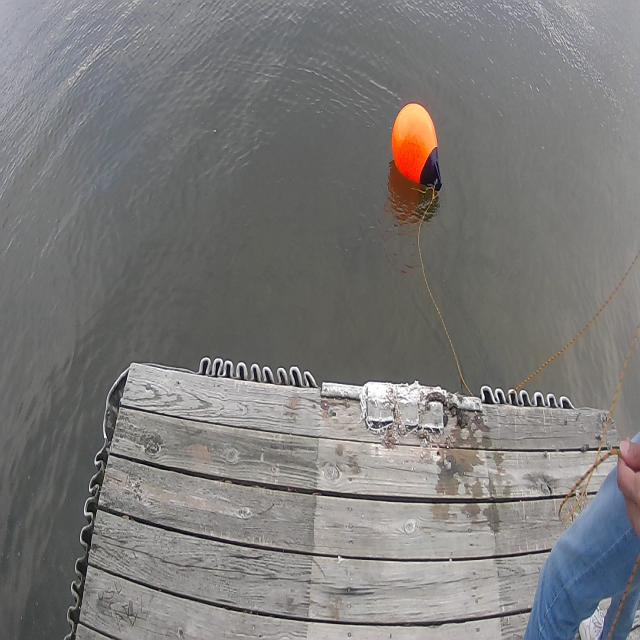Buoy: (387, 90, 451, 212)
